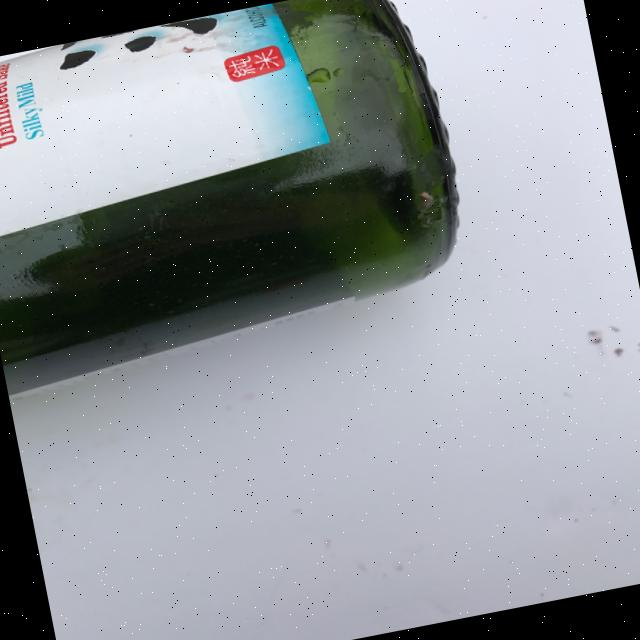glass: (0, 0, 483, 399)
